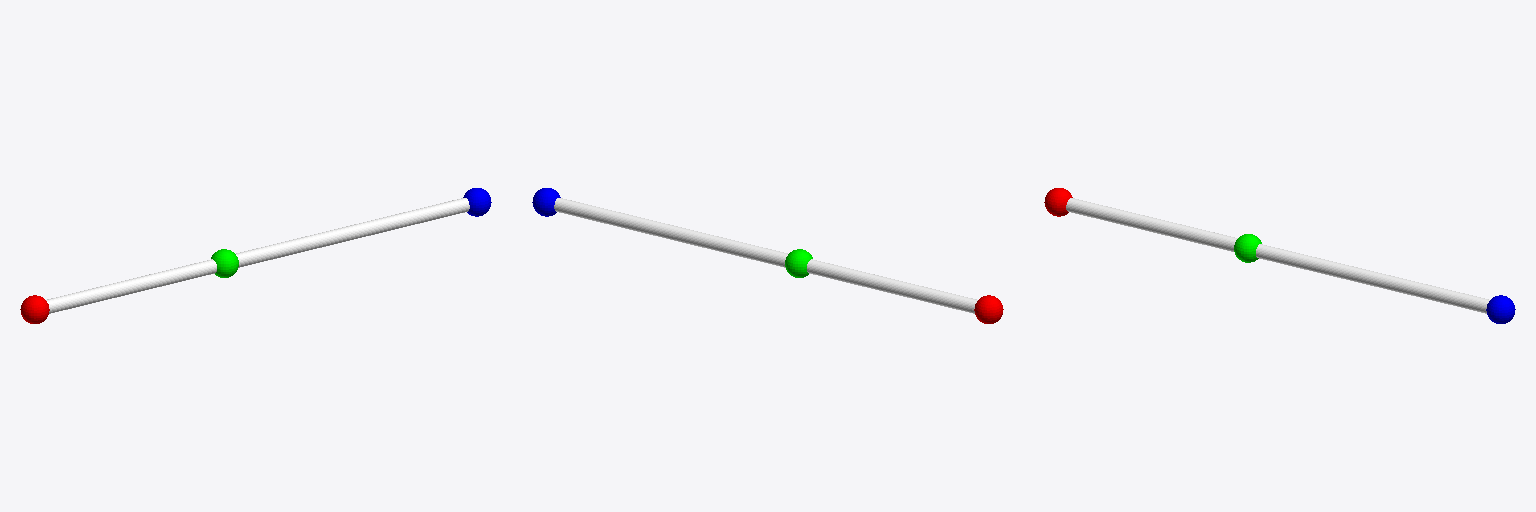
robot.urdf — mobile_manipulator:
<?xml version="1.0"?>
<robot name="mobile_manipulator" xmlns="http://www.ros.org">
<link name="world_base"/>
<link name="base">
  <visual>
    <geometry>
      <sphere radius="0.02"/>
    </geometry>
    <material name="base_color">
      <color rgba="1 0 0 1"/>
    </material>
  </visual>
  <collision>
    <geometry>
      <sphere radius="0.02"/>
    </geometry>
  </collision>
</link>
<link name="base_x"/>
<link name="base_y"/>
<joint name="base_x" type="prismatic">
  <origin xyz="0 0 0" rpy="0 0 0"/>
  <axis xyz="1 0 0"/>
  <parent link="world_base"/>
  <child link="base_x"/>
  <limit effort="10.0" velocity="10.0" lower="-2.0" upper="2.0"/>
</joint>
<joint name="base_y" type="prismatic">
  <origin xyz="0 0 0" rpy="0 0 0"/>
  <axis xyz="0 1 0"/>
  <parent link="base_x"/>
  <child link="base_y"/>
  <limit effort="10.0" velocity="10.0" lower="-2.0" upper="2.0"/>
</joint>
<joint name="base_fixed" type="fixed">
  <origin xyz="0 0 0" rpy="0 0 0"/>
  <parent link="base_y"/>
  <child link="base"/>
</joint>

<link name="elbow">
  <visual>
    <geometry>
      <sphere radius="0.02"/>
    </geometry>
    <material name="elbow_color">
      <color rgba="0 1 0 1"/>
    </material>
  </visual>
  <collision>
    <geometry>
      <sphere radius="0.02"/>
    </geometry>
  </collision>
</link>

<link name="shoulder_pan"/>
<joint name="shoulder_pan" type="revolute">
  <origin xyz="0 0 0" rpy="0 0 0"/>
  <axis xyz="0 0 1"/>
  <parent link="base"/>
  <child link="shoulder_pan"/>
  <limit effort="10.0" velocity="10.0" lower="-6.28" upper="6.28"/>
</joint>
<joint name="shoulder_lift" type="revolute">
  <origin xyz="0 0 0" rpy="0 0 0"/>
  <axis xyz="0 -1 0"/>
  <parent link="shoulder_pan"/>
  <child link="upperarm"/>
  <limit effort="10.0" velocity="10.0" lower="-6.28" upper="6.28"/>
</joint>

<link name="upperarm">
  <visual>
    <origin xyz="0.15 0 0" rpy="0 1.57 0"/>
    <geometry>
      <cylinder radius="0.01" length="0.3"/>
    </geometry>
    <material name="upperarm_color">
      <color rgba="1 1 1 1"/>
    </material>
  </visual>
  <collision>
    <origin xyz="0.15 0 0" rpy="0 1.57 0"/>
    <geometry>
      <cylinder radius="0.01" length="0.3"/>
    </geometry>
  </collision>
</link>

<joint name="elbow_fixed" type="fixed">
  <origin xyz="0.3 0 0" rpy="0 0 0"/>
  <axis xyz="0 0 0"/>
  <parent link="upperarm"/>
  <child link="elbow"/>
</joint>

<link name="forearm">
  <visual>
    <origin xyz="0.2 0 0" rpy="0 1.57 0"/>
    <geometry>
      <cylinder radius="0.01" length="0.4"/>
    </geometry>
    <material name="forearm_color">
      <color rgba="1 1 1 1"/>
    </material>
  </visual>
  <collision>
    <origin xyz="0.2 0 0" rpy="0 1.57 0"/>
    <geometry>
      <cylinder radius="0.01" length="0.4"/>
    </geometry>
  </collision>
</link>

<link name="eef">
  <visual>
    <geometry>
      <sphere radius="0.02"/>
    </geometry>
    <material name="eef_color">
      <color rgba="0 0 1 1"/>
    </material>
  </visual>
  <collision>
    <geometry>
      <sphere radius="0.02"/>
    </geometry>
  </collision>
</link>

<joint name="elbow_flex" type="revolute">
  <origin xyz="0 0 0" rpy="0 0 0"/>
  <axis xyz="0 1 0"/>
  <parent link="elbow"/>
  <child link="forearm"/>
  <limit effort="10.0" velocity="10.0" lower="-6.28" upper="6.28"/>
</joint>
<joint name="eef_fixed" type="fixed">
  <origin xyz="0.4 0 0" rpy="0 0 0"/>
  <parent link="forearm"/>
  <child link="eef"/>
</joint>

</robot>

--- Render facts (derived) ---
The picture shows the robot from 3 angles, left to right: view 1: azimuth 30°, elevation 25°; view 2: azimuth 150°, elevation 25°; view 3: azimuth 330°, elevation 25°; orthographic projection.
Robot: mobile_manipulator — 9 links, 8 joints (3 revolute, 2 prismatic, 3 fixed); root link world_base; default pose: all joints at 0.
Visible links, largest first — view 1: forearm, upperarm, base, elbow, eef; view 2: forearm, upperarm, base, elbow, eef; view 3: forearm, upperarm, eef, elbow, base.
Link boxes in pixels (<box>): forearm: <box>236,198,469,267</box>; upperarm: <box>46,259,216,313</box>; base: <box>20,295,49,323</box>; elbow: <box>211,249,238,277</box>; eef: <box>463,188,491,216</box>; forearm: <box>554,198,787,267</box>; upperarm: <box>807,259,977,313</box>; base: <box>974,295,1003,323</box>; elbow: <box>785,249,812,277</box>; eef: <box>532,188,560,216</box>; forearm: <box>1256,244,1489,313</box>; upperarm: <box>1066,198,1237,251</box>; eef: <box>1486,295,1515,323</box>; elbow: <box>1234,234,1261,262</box>; base: <box>1044,188,1072,216</box>.
Bounding box of the posed robot: 0.74 × 0.04 × 0.04 m (x, y, z).
Geometry: primitives only (box / cylinder / sphere), no mesh files.
